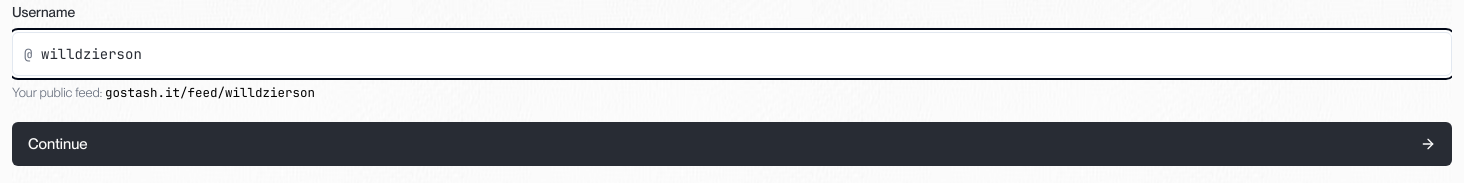
Test: HandleStep › warns live when a typed handle belongs to someone else
The width and height of the screenshot is (1464, 183).
Replace the text in the field labelled "Username" with "taken" at coordinates (732, 54), box [12, 32, 1452, 76]
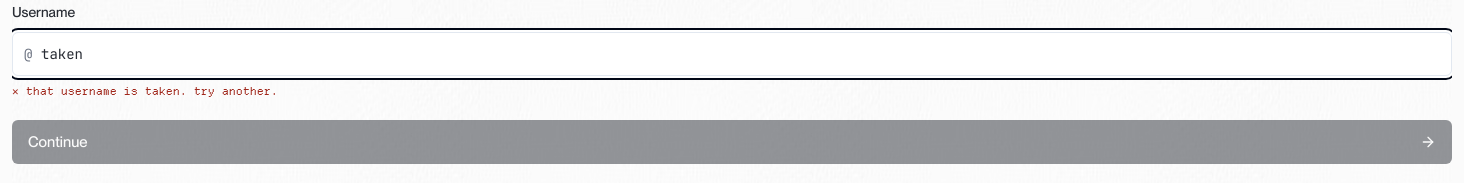
Now the text "✕ that username is taken. try another." is shown, box [12, 84, 278, 98]
